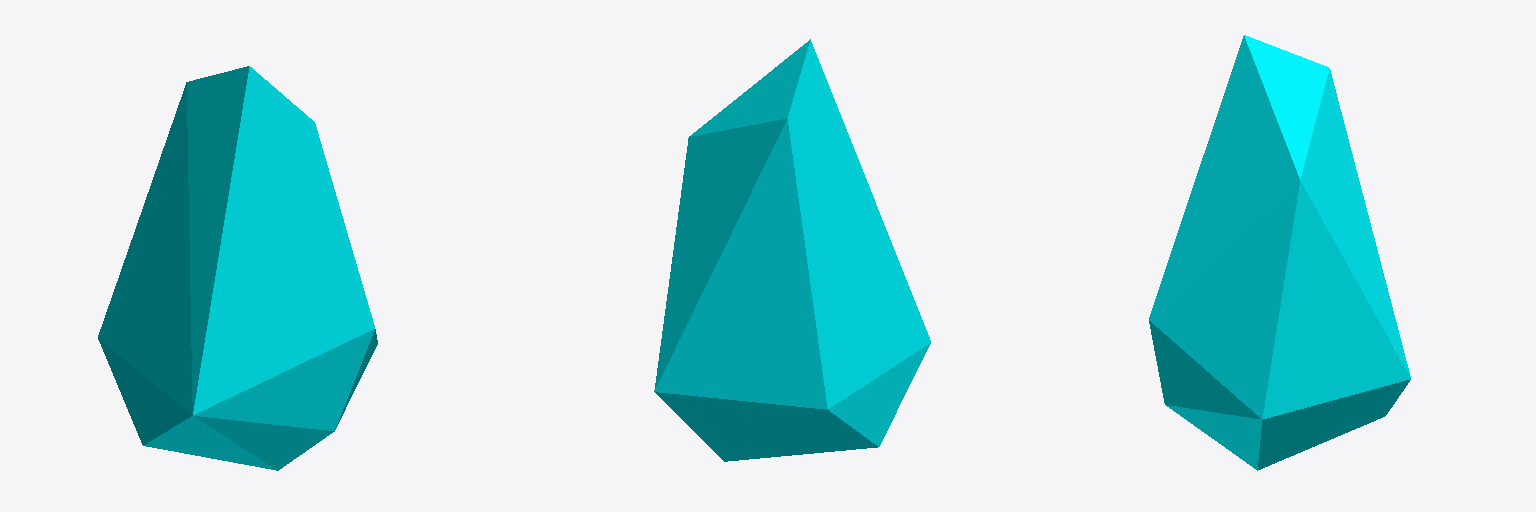
3 renders of one model, left to right at view 1: azimuth 30°, elevation 25°; view 2: azimuth 150°, elevation 25°; view 3: azimuth 270°, elevation 25°, orthographic.
Parts seen in each view (by area): view 1: ICO球; view 2: ICO球; view 3: ICO球.
Part boxes in pixels (bbox=[...]): ICO球: bbox=[98, 66, 377, 470]; ICO球: bbox=[654, 39, 930, 461]; ICO球: bbox=[1149, 35, 1410, 470].
Size of the model in its own units: 0.2383 by 0.4204 by 0.239.
1 materials, 1 textured.